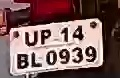0: (46, 47, 58, 68)
1: (59, 25, 72, 44)
3: (71, 46, 84, 66)
4: (72, 23, 86, 45)
9: (57, 46, 71, 66), (84, 44, 98, 63)
B: (14, 50, 29, 71)
L: (29, 49, 44, 69)
P: (39, 28, 52, 48)
U: (21, 29, 39, 48)
